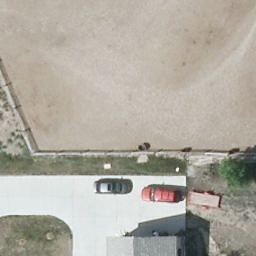car: (140, 187, 185, 202), (93, 175, 133, 191)
